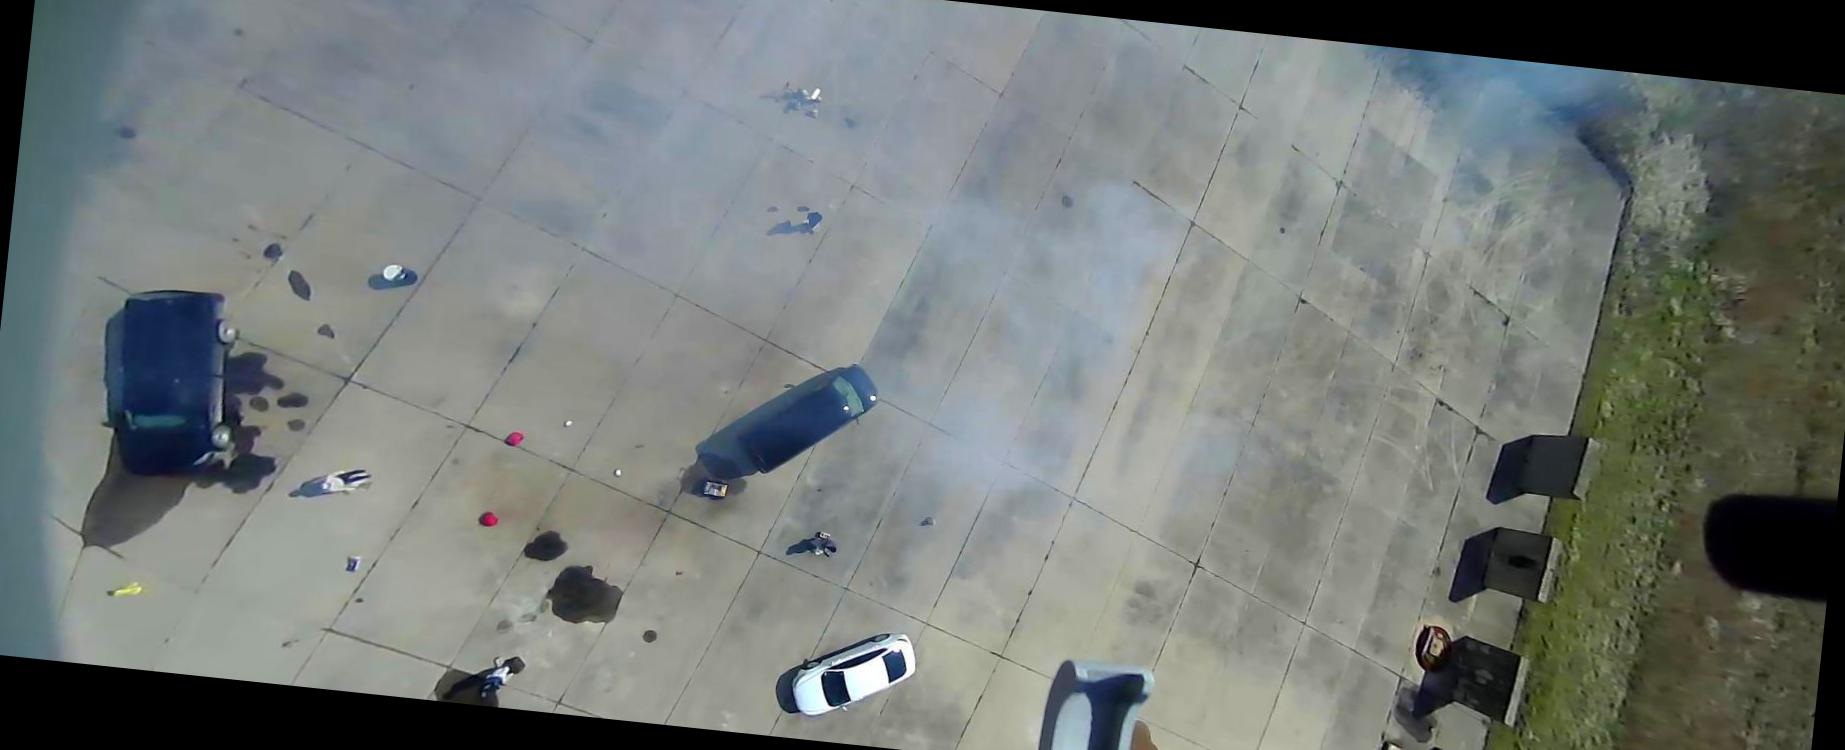vehicle: (106, 284, 246, 484), (735, 353, 881, 485), (787, 623, 919, 726)
